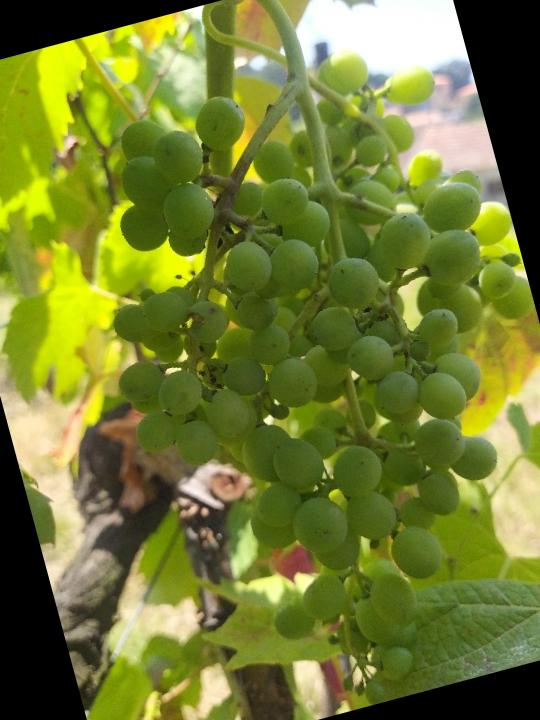grape: (48, 18, 540, 720)
